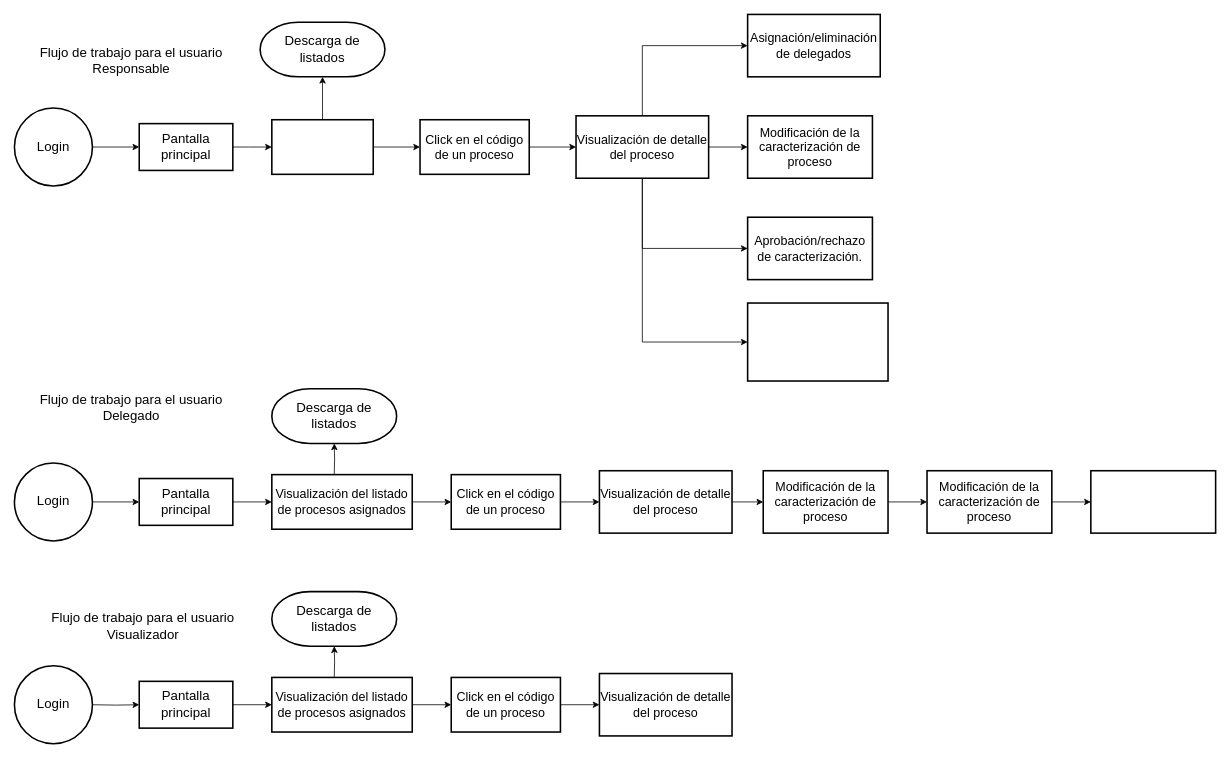
Image size: 1229x757. Some labels were removed from this diagram. Each missing label, with the box of its shape:
Gestionar la estructura de la matriz de caracterización: (746, 302, 888, 381)
Solicitud de aprobación de la caracterización: (1090, 470, 1216, 534)
Visualización del listado de todos los procesos.: (271, 119, 374, 175)
